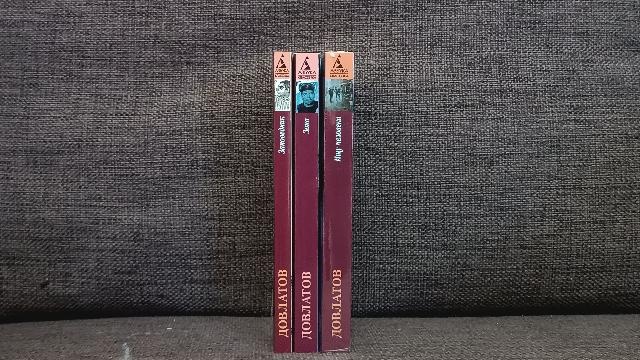book-s-spine: (322, 53, 353, 354), (295, 53, 319, 354), (274, 52, 292, 354)
